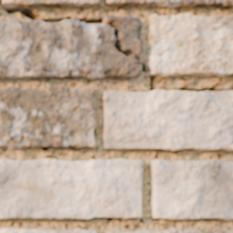brick: (0, 159, 141, 218), (102, 89, 232, 150), (0, 87, 95, 148), (148, 14, 232, 76), (150, 160, 232, 219), (105, 0, 232, 7), (4, 0, 99, 7), (106, 228, 232, 232), (0, 229, 95, 232)
broken_brick: (0, 20, 142, 79), (106, 14, 144, 58)
crack: (0, 0, 232, 92)
